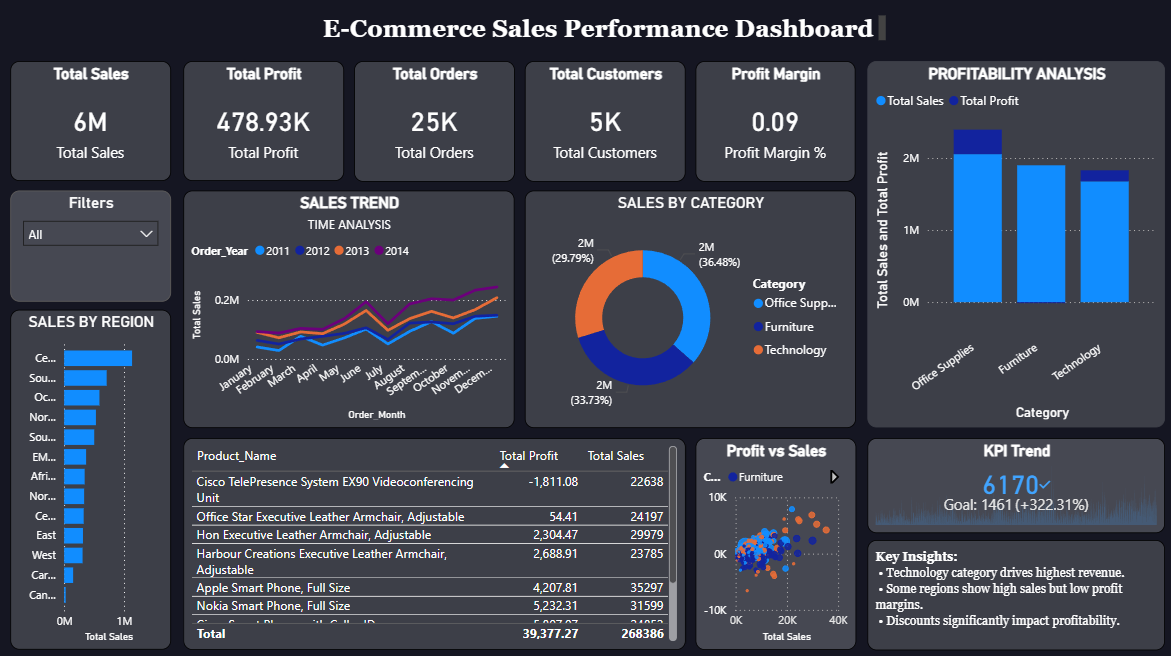

What the dashboard file says about the page in this screenshot:
{"tool":"powerbi","page":{"name":"Page 1","canvas":[1280,720],"ordinal":0},"visuals":[{"type":"card","title":"Total Sales","fields":{"Values":["superstore.Total Sales"]},"box":[11.2,68.8,175,131.2],"z":0},{"type":"card","title":"Total Profit","fields":{"Values":["superstore.Total Profit"]},"box":[200,68.8,175,131.2],"z":1000},{"type":"card","title":"Total Orders","fields":{"Values":["superstore.Total Orders"]},"box":[386.2,68.5,175.4,131.5],"z":2000},{"type":"card","title":"Total Customers","fields":{"Values":["superstore.Total Customers"]},"box":[572.3,68.5,175.4,131.5],"z":3000},{"type":"card","title":"Profit Margin","fields":{"Values":["superstore.Profit Margin %"]},"box":[759.3,68.6,174.3,131.4],"z":4000},{"type":"lineChart","title":"SALES TREND","fields":{"Category":["superstore.Order_Month"],"Y":["superstore.Total Sales"],"Series":["superstore.Order_Year"]},"box":[200,210,360.9,259.1],"z":5000},{"type":"donutChart","title":"SALES BY CATEGORY","fields":{"Category":["superstore.Category"],"Y":["superstore.Total Sales"]},"box":[572.7,210,360.9,259.1],"z":6000},{"type":"barChart","title":"SALES BY REGION","fields":{"Category":["superstore.Region"],"Y":["superstore.Total Sales"]},"box":[11,340,175,371],"z":7000},{"type":"columnChart","title":"PROFITABILITY ANALYSIS","fields":{"Category":["superstore.Category"],"Y":["superstore.Total Sales","superstore.Total Profit"]},"box":[946,69,325,400],"z":8000},{"type":"tableEx","fields":{"Values":["superstore.Product_Name","superstore.Total Profit","superstore.Total Sales"]},"box":[200,480,548,231],"z":9000},{"type":"textbox","box":[946,591,325,120],"z":10000},{"type":"textbox","box":[347.5,13.8,623.8,38.8],"z":11000},{"type":"slicer","title":"Filters","fields":{"Values":["superstore.Order_Year","superstore.Region","superstore.Category"]},"box":[11.2,210,175,121.2],"z":12000},{"type":"kpi","title":"KPI Trend","fields":{"Indicator":["superstore.Total Sales"],"TrendLine":["superstore.Order_Date"],"Goal":["CountNonNull(superstore.Order_Date.Variation.Date Hierarchy.Year)"]},"box":[946.4,480,325,104.3],"z":12001},{"type":"scatterChart","title":"Profit vs Sales","fields":{"X":["superstore.Total Sales"],"Y":["superstore.Total Profit"],"Category":["superstore.Product_Name"],"Size":["superstore.Total Quantity"],"Series":["superstore.Category"]},"box":[759,480,175,231],"z":12002}]}

Visuals, with their boxes in screenshot pixels (x1, y1, x2, y2), scaled from the page's 1280x720 canvas onto the 1171x656 screenshot:
"Total Sales" card: bbox=[10, 63, 170, 182]
"Total Profit" card: bbox=[183, 63, 343, 182]
"Total Orders" card: bbox=[353, 62, 514, 182]
"Total Customers" card: bbox=[524, 62, 684, 182]
"Profit Margin" card: bbox=[695, 63, 854, 182]
"SALES TREND" lineChart: bbox=[183, 191, 513, 427]
"SALES BY CATEGORY" donutChart: bbox=[524, 191, 854, 427]
"SALES BY REGION" barChart: bbox=[10, 310, 170, 648]
"PROFITABILITY ANALYSIS" columnChart: bbox=[865, 63, 1163, 427]
tableEx - superstore.Product_Name x superstore.Total Profit: bbox=[183, 437, 684, 648]
textbox: bbox=[865, 538, 1163, 648]
textbox: bbox=[318, 13, 889, 48]
"Filters" slicer: bbox=[10, 191, 170, 302]
"KPI Trend" kpi: bbox=[866, 437, 1163, 532]
"Profit vs Sales" scatterChart: bbox=[694, 437, 854, 648]
